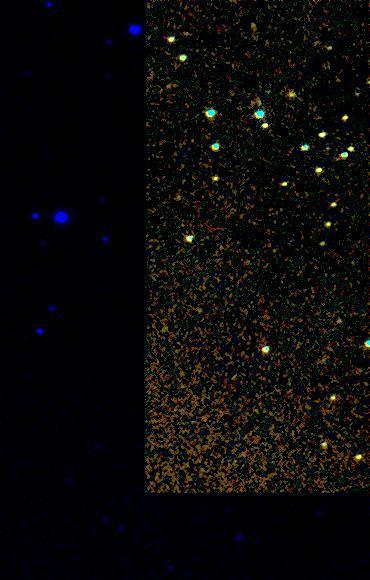star: (275, 82, 305, 112)
